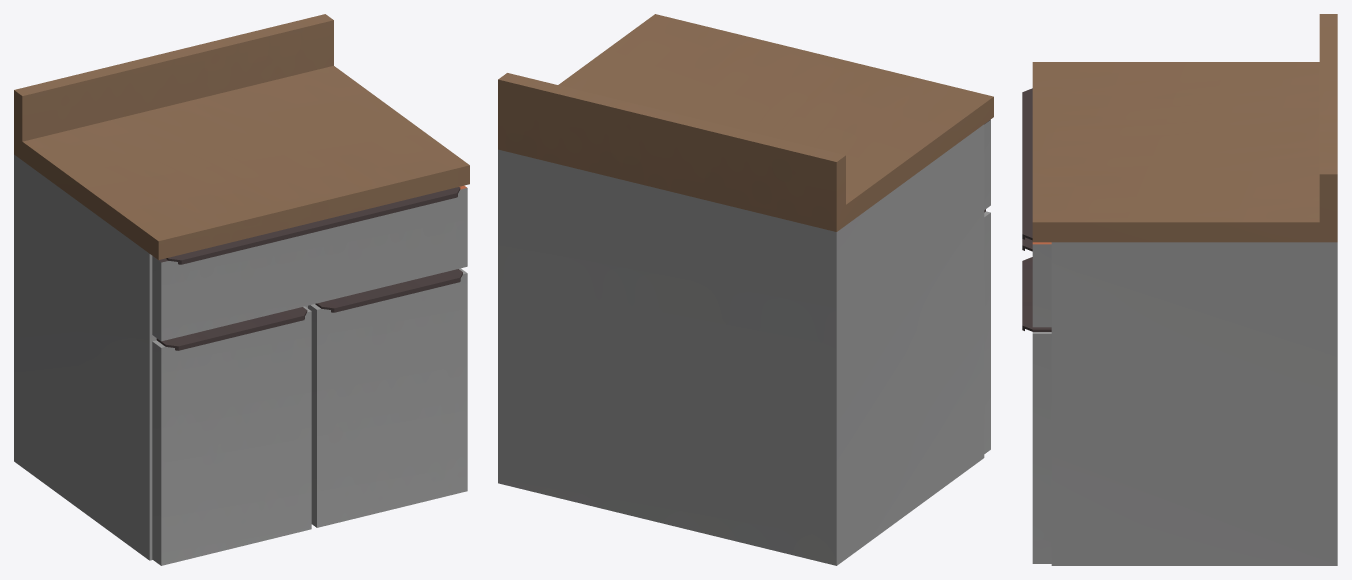
Rendered from KitchenBlock_A.fbx.
3 renders of one model, left to right at view 1: azimuth 30°, elevation 25°; view 2: azimuth 150°, elevation 25°; view 3: azimuth 270°, elevation 25°, orthographic. The views are drawn at different scales.
Parts seen in each view (by area): view 1: Kit_1_Block_A; view 2: Kit_1_Block_A; view 3: Kit_1_Block_A.
Boxes of the visible parts, <box> form: Kit_1_Block_A: <box>14,14,469,565</box>; Kit_1_Block_A: <box>498,14,993,565</box>; Kit_1_Block_A: <box>1022,14,1337,565</box>.
Bounding box in the file's own units: 82.46 × 93.97 × 68.51.
